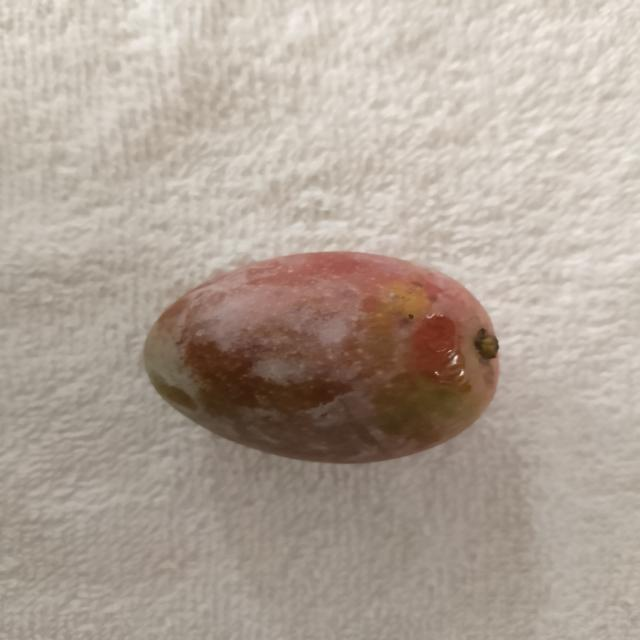mango: (140, 247, 509, 467)
